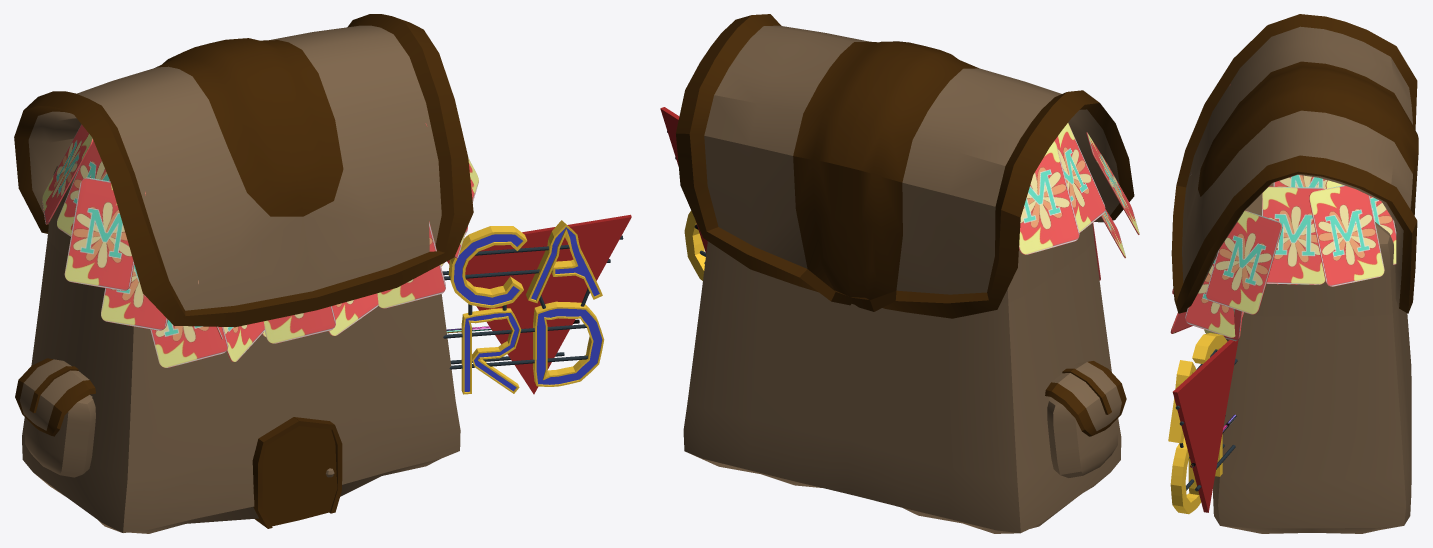
File: CardStore - Overfilled.fbx_Card_Shop.fbx
The picture shows the model from 3 angles, left to right: view 1: azimuth 30°, elevation 25°; view 2: azimuth 150°, elevation 25°; view 3: azimuth 270°, elevation 25°; orthographic projection. The views are drawn at different scales.
Visible parts, largest first — view 1: Cube.001, Cube, Plane.003, Cards.001, Plane.002, Plane, Plane.001, Cards.002, It's so gas.001, Cards.007, Cards.003, Cards.014 (+4 smaller); view 2: Cube.001, Cube, Cards.003, Cards.004, Plane.002, Cards.001, Plane.003; view 3: Cube, Cube.001, Cards.003, Plane.003, Cards.001, Cards.004, Cards.007, Plane.002, It's so gas.001, Cards.017, Plane, Cards.018.
Boxes of the visible parts, x1=… form: Cube.001: x1=14, y1=14, x2=473, y2=327; Cube: x1=15, y1=164, x2=460, y2=533; Plane.003: x1=447, y1=214, x2=631, y2=394; Cards.001: x1=64, y1=123, x2=478, y2=290; Plane.002: x1=533, y1=301, x2=604, y2=386; Plane: x1=448, y1=226, x2=527, y2=308; Plane.001: x1=461, y1=308, x2=521, y2=394; Cards.002: x1=150, y1=320, x2=228, y2=367; It's so gas.001: x1=526, y1=220, x2=602, y2=303; Cards.007: x1=101, y1=232, x2=465, y2=330; Cards.003: x1=42, y1=124, x2=93, y2=224; Cards.014: x1=264, y1=306, x2=335, y2=343; Cube.001: x1=676, y1=14, x2=1134, y2=318; Cube: x1=683, y1=223, x2=1126, y2=533; Cards.003: x1=1019, y1=141, x2=1079, y2=254; Cards.004: x1=1054, y1=123, x2=1105, y2=232; Plane.002: x1=684, y1=210, x2=705, y2=280; Cards.001: x1=1086, y1=132, x2=1139, y2=234; Plane.003: x1=660, y1=107, x2=707, y2=253; Cube: x1=1213, y1=182, x2=1411, y2=533; Cube.001: x1=1171, y1=14, x2=1418, y2=313; Cards.003: x1=1309, y1=185, x2=1384, y2=286; Plane.003: x1=1172, y1=340, x2=1238, y2=512; Cards.001: x1=1206, y1=84, x2=1282, y2=314; Cards.004: x1=1262, y1=186, x2=1325, y2=284; Cards.007: x1=1185, y1=257, x2=1244, y2=337; Plane.002: x1=1170, y1=437, x2=1200, y2=514; It's so gas.001: x1=1168, y1=360, x2=1195, y2=443; Cards.017: x1=1325, y1=180, x2=1396, y2=264; Plane: x1=1192, y1=333, x2=1227, y2=363; Cards.018: x1=1273, y1=175, x2=1327, y2=188.
Bounding box in the file's own units: 1340 × 2977 × 2316.
